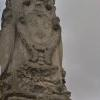Statue: (4, 2, 79, 100)
